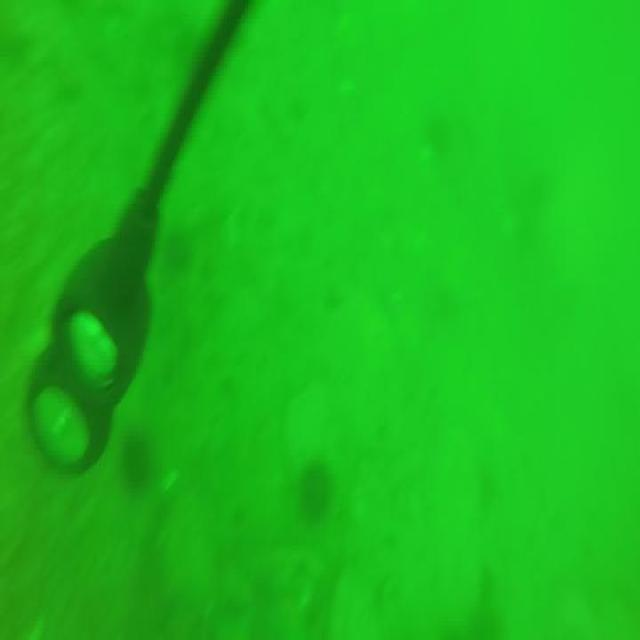echinus: (302, 466, 335, 526), (120, 434, 150, 492)
